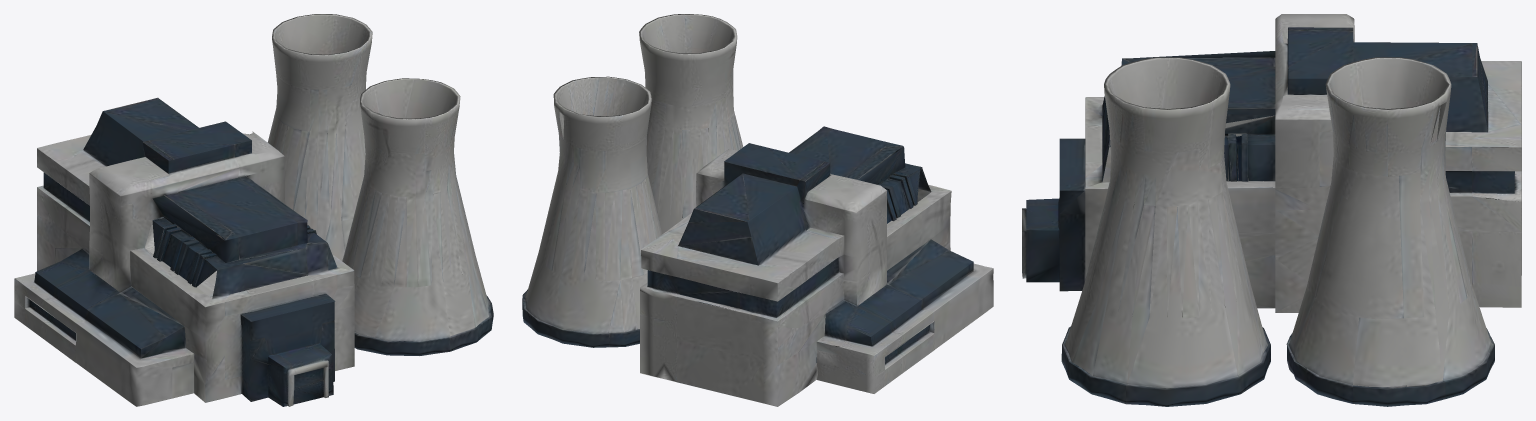
File: 22-power-plant.glb
The picture shows the model from 3 angles, left to right: view 1: azimuth 30°, elevation 25°; view 2: azimuth 150°, elevation 25°; view 3: azimuth 270°, elevation 25°; orthographic projection. The views are drawn at different scales.
Parts seen in each view (by area): view 1: geometry_0; view 2: geometry_0; view 3: geometry_0.
Boxes of the visible parts, <box> form: geometry_0: <box>14,14,493,406</box>; geometry_0: <box>522,14,993,406</box>; geometry_0: <box>1022,14,1521,406</box>.
Size of the model in its own units: 0.9497 by 0.5523 by 0.8941.
1 material, 1 textured.
